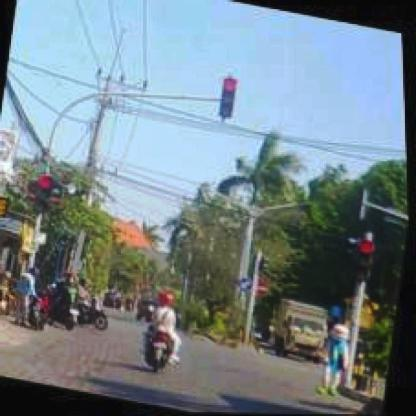Traffic Light -Red-: (354, 240, 376, 284), (221, 77, 241, 121), (34, 176, 54, 216)
